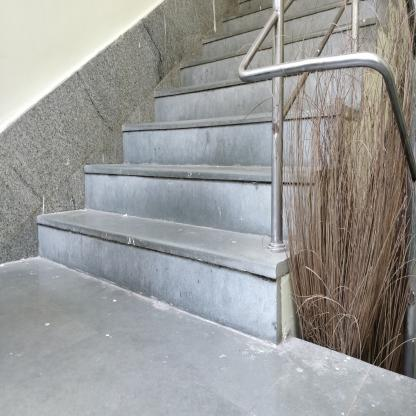stairs: (156, 85, 266, 339)
